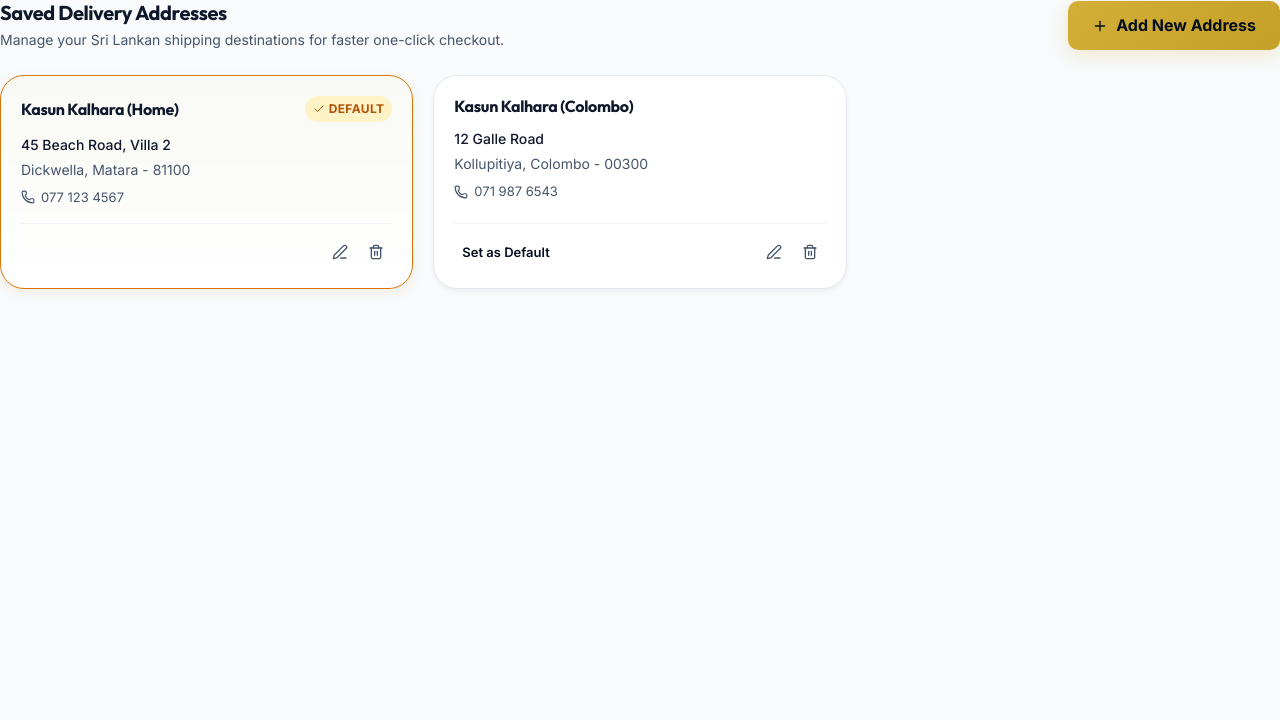
Test: STORM-FE-014: Customer Profile Hub, Multi-Address Management & Loyalty Card › AC2: AddressBook Multi-Address Management › opens add address modal and adds a new address
Click the button with test id "add-address-btn" at (1174, 26), box [1068,1,1279,50]
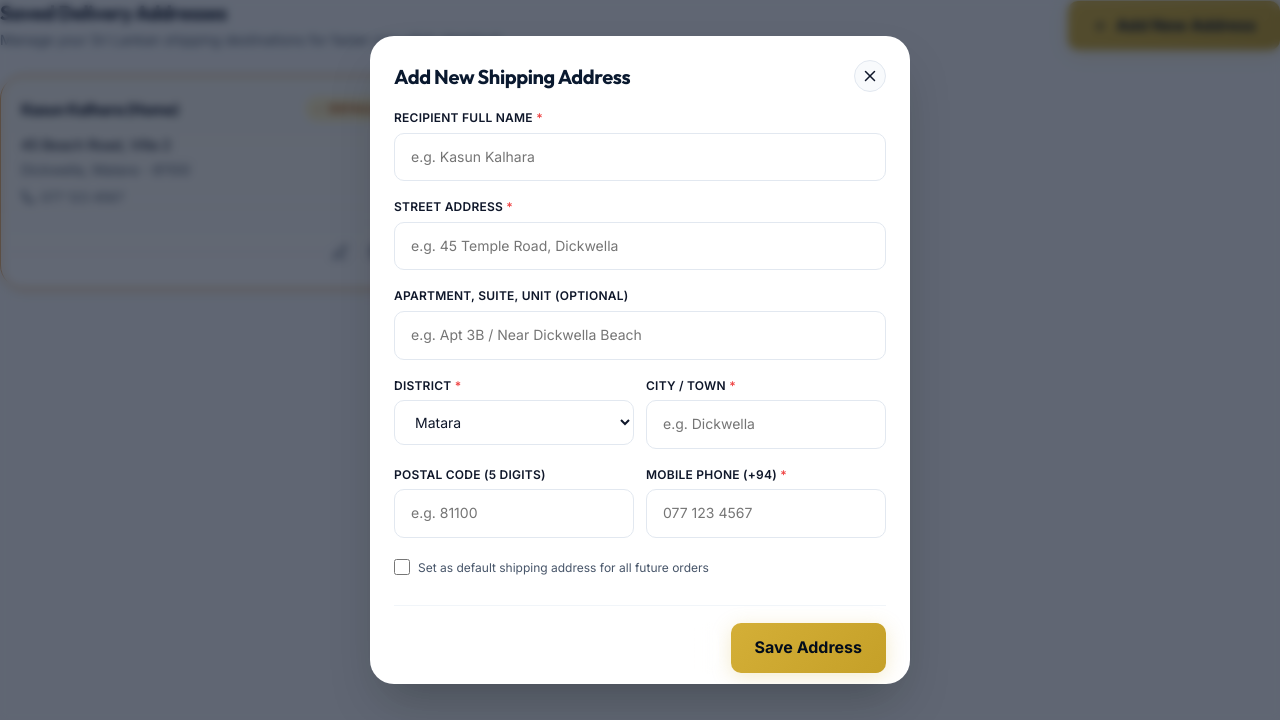
Result: the dialog with test id "address-modal" is shown at [370,36,910,684]
Type "S. Thanoogithan" into the field with test id "input-address-recipient" at (640, 157), box [394,133,886,181]
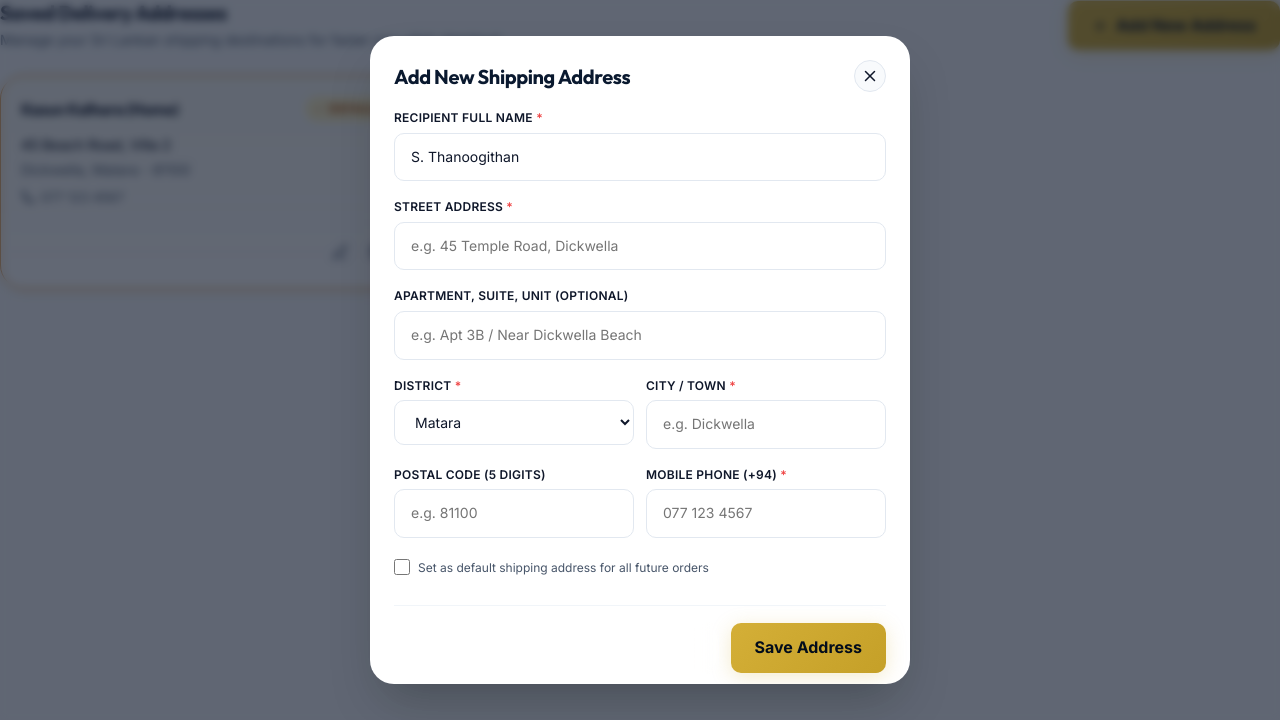
Type "10 Temple Junction" into the field with test id "input-address-line1" at (640, 246), box [394,222,886,270]
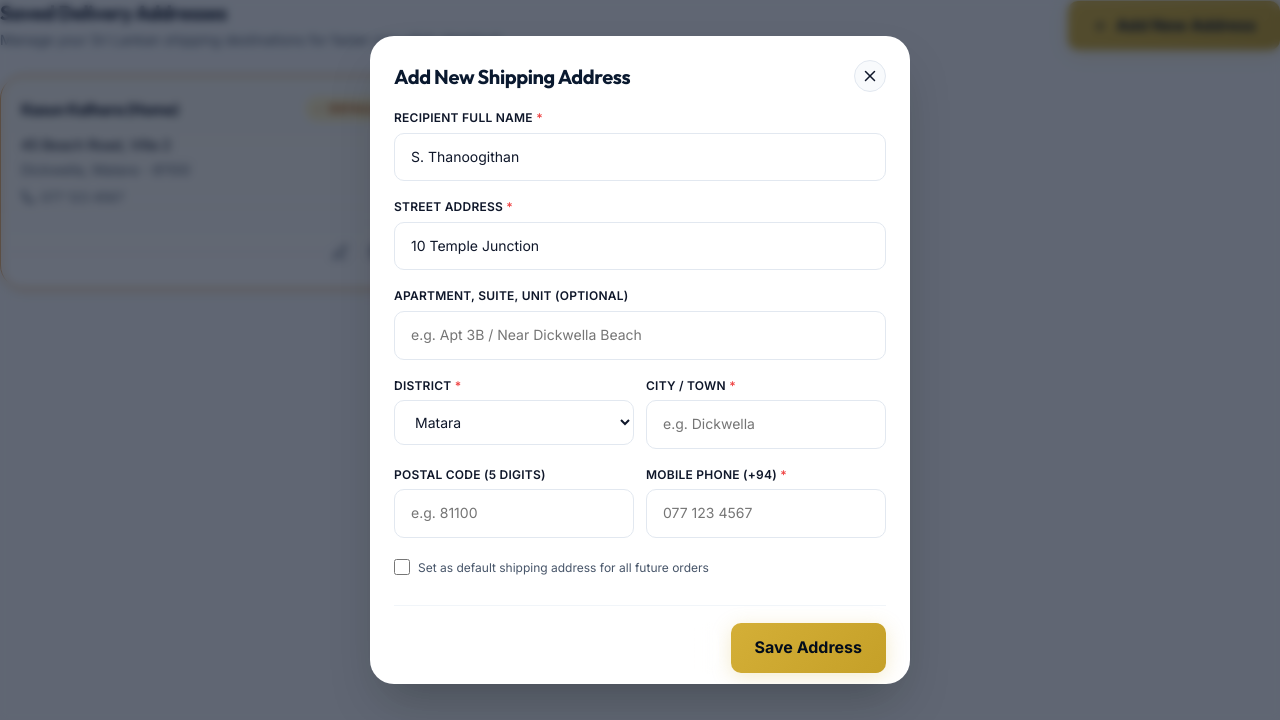
Type "Matara" into the field with test id "input-address-city" at (766, 424), box [646,400,886,449]
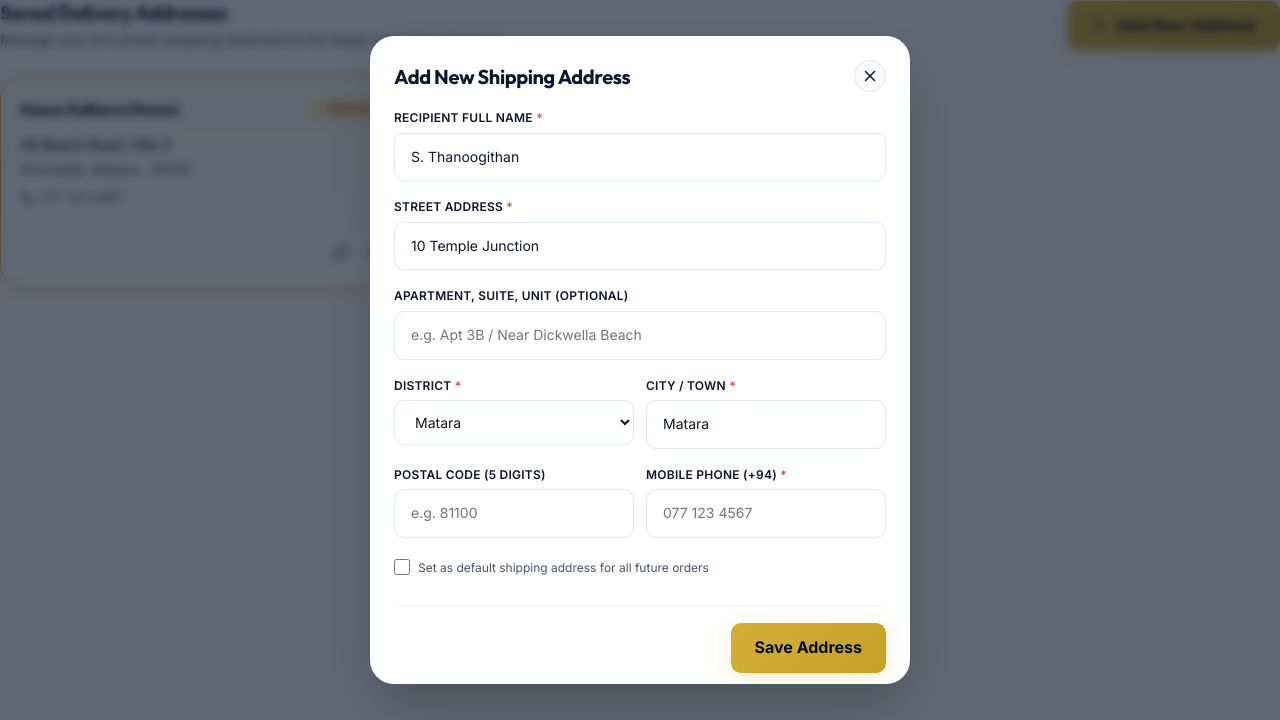
Type "077 555 4444" into the field with test id "input-address-phone" at (766, 514), box [646,490,886,538]
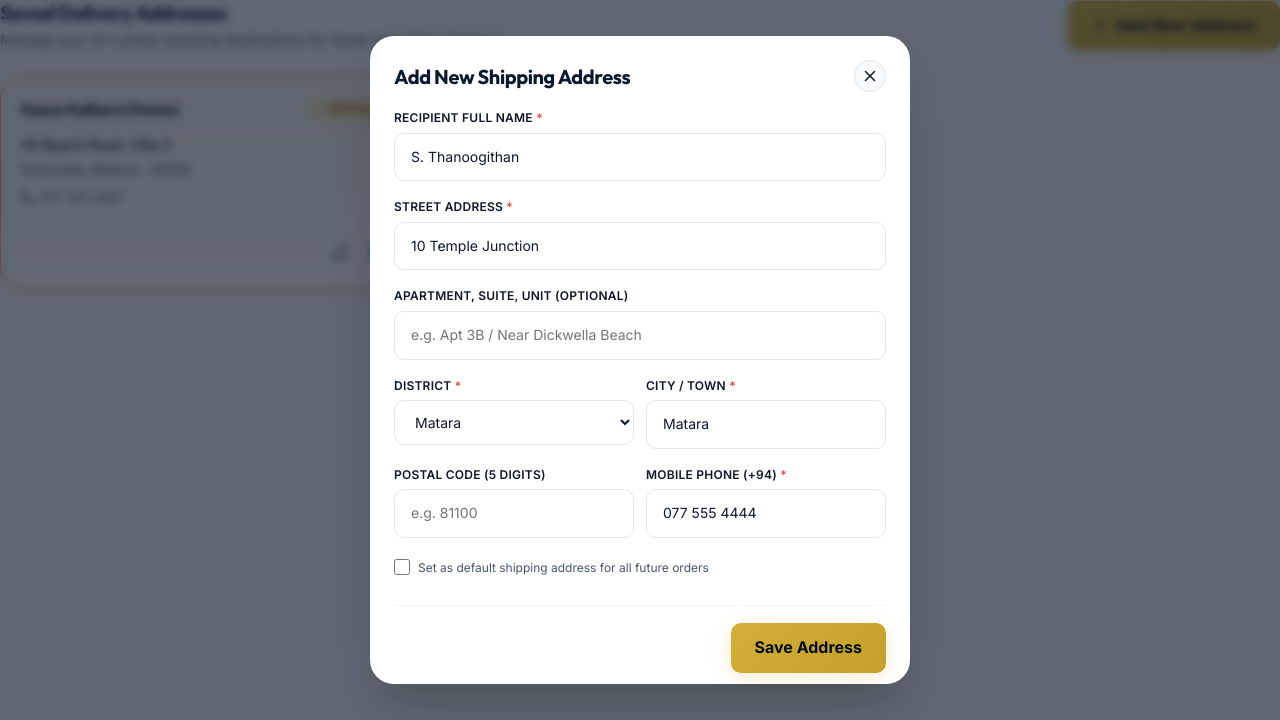
Click the button with test id "submit-address-btn" at (808, 648), box [730,623,886,673]
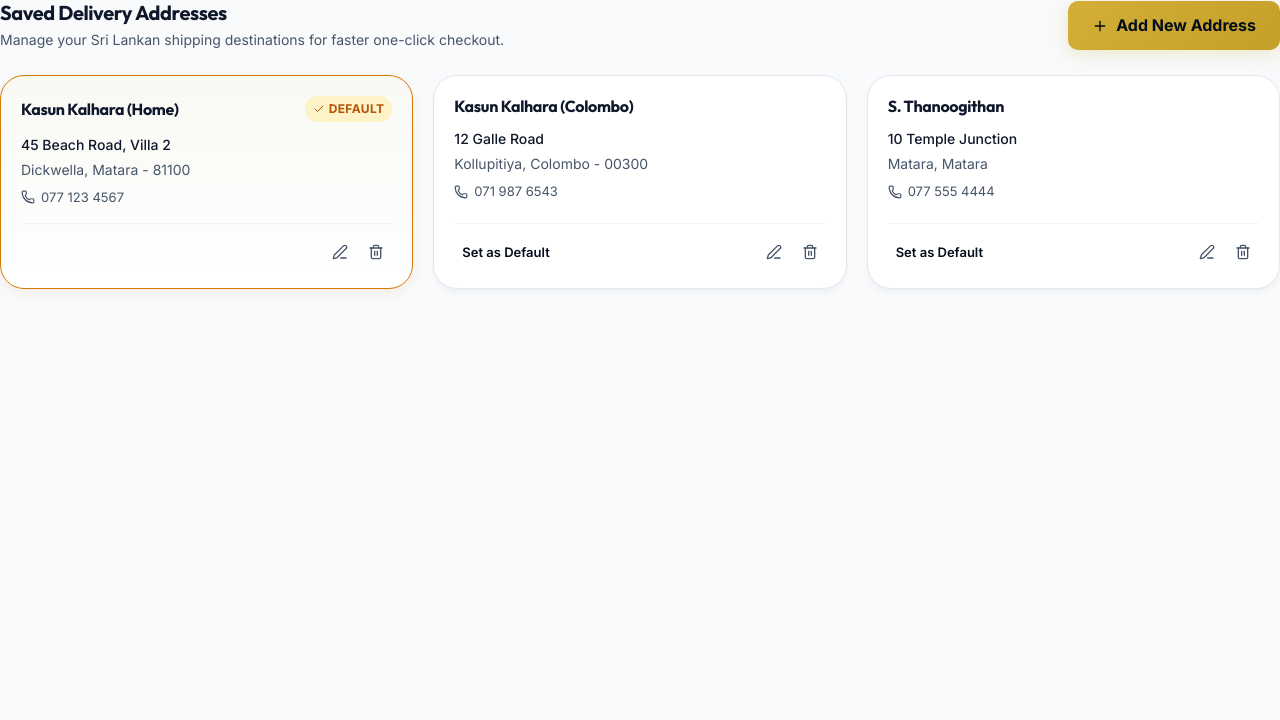
Result: the dialog with test id "address-modal" is gone
